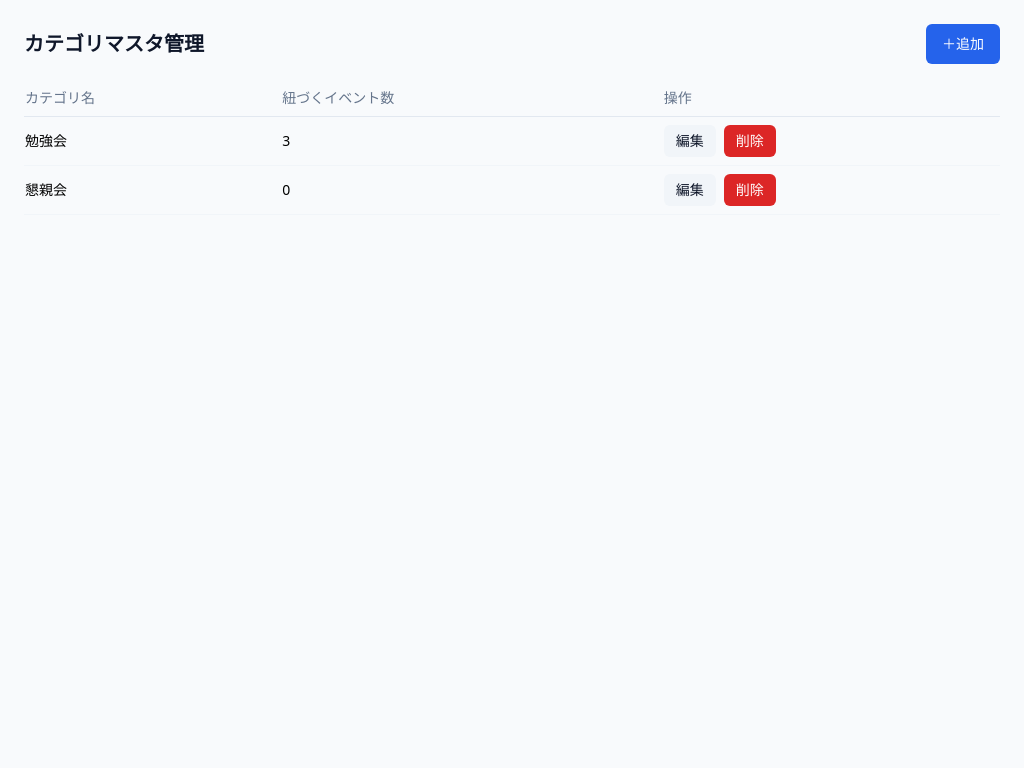
Test case: CategoriesAdminPage › 「編集」クリックで、対象カテゴリの値で初期化された編集モーダルが開くこと
Expected: the text "勉強会" is shown, left=24, top=116, right=281, bottom=166
Click the button "編集" in the row of "勉強会".
click(690, 141)  # box left=664, top=125, right=716, bottom=157
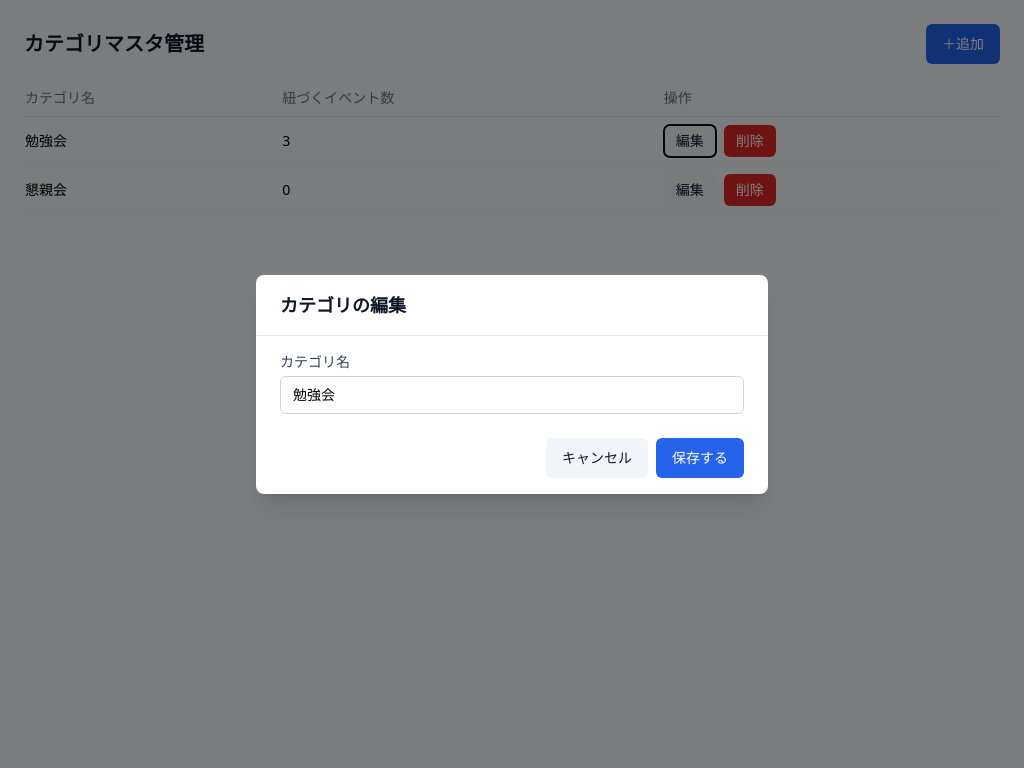
Expected: the heading "カテゴリの編集" is shown, left=280, top=292, right=406, bottom=316
Expected: the field labelled "カテゴリ名" holds "勉強会", left=280, top=376, right=744, bottom=414
